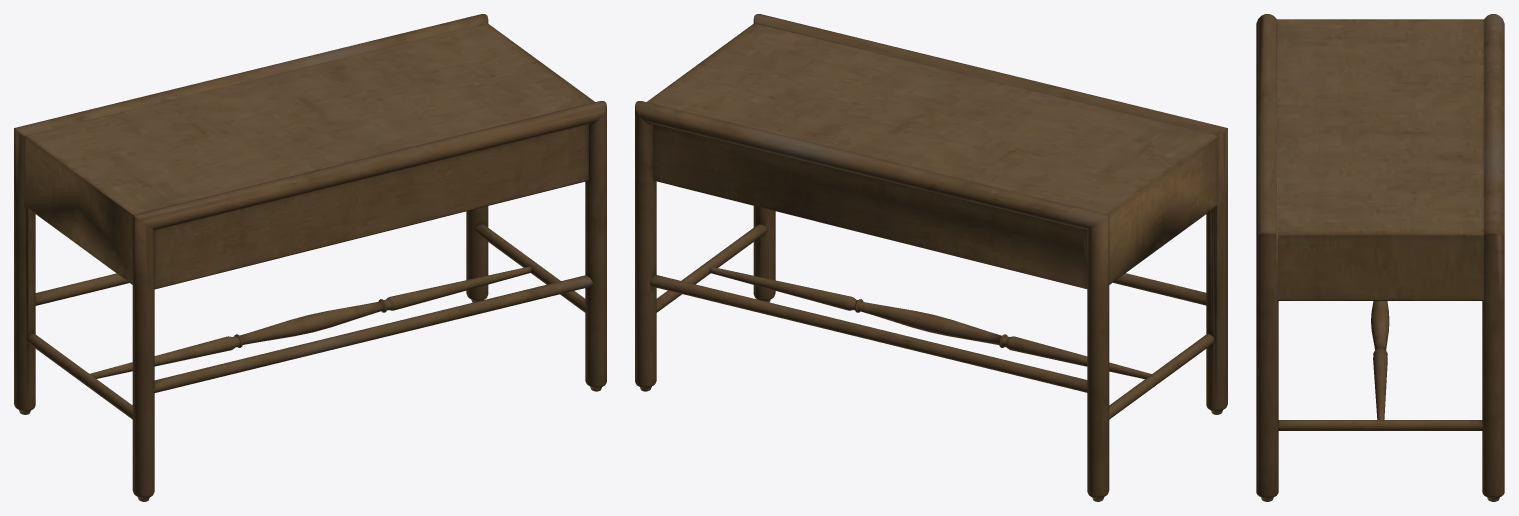
File: small_wooden_table_01.glb
The picture shows the model from 3 angles, left to right: view 1: azimuth 30°, elevation 25°; view 2: azimuth 150°, elevation 25°; view 3: azimuth 270°, elevation 25°; orthographic projection. The views are drawn at different scales.
Parts seen in each view (by area): view 1: small_wooden_table_01; view 2: small_wooden_table_01; view 3: small_wooden_table_01.
Boxes of the visible parts, left/top/right/bottom form: small_wooden_table_01: left=14, top=14, right=606, bottom=501; small_wooden_table_01: left=635, top=14, right=1227, bottom=501; small_wooden_table_01: left=1256, top=14, right=1504, bottom=501.
Bounding box in the file's own units: 0.9162 × 0.5331 × 0.4399.
1 material, 1 textured.
